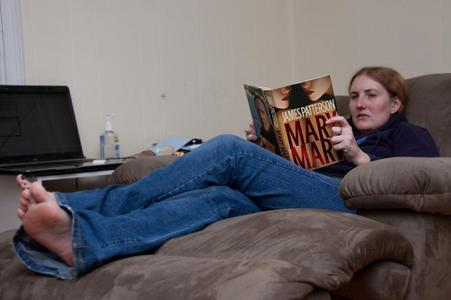person: (16, 66, 451, 282)
